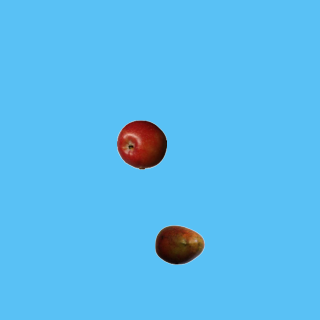Apple Braeburn: (116, 119, 166, 169)
Mango Red: (154, 219, 204, 269)
